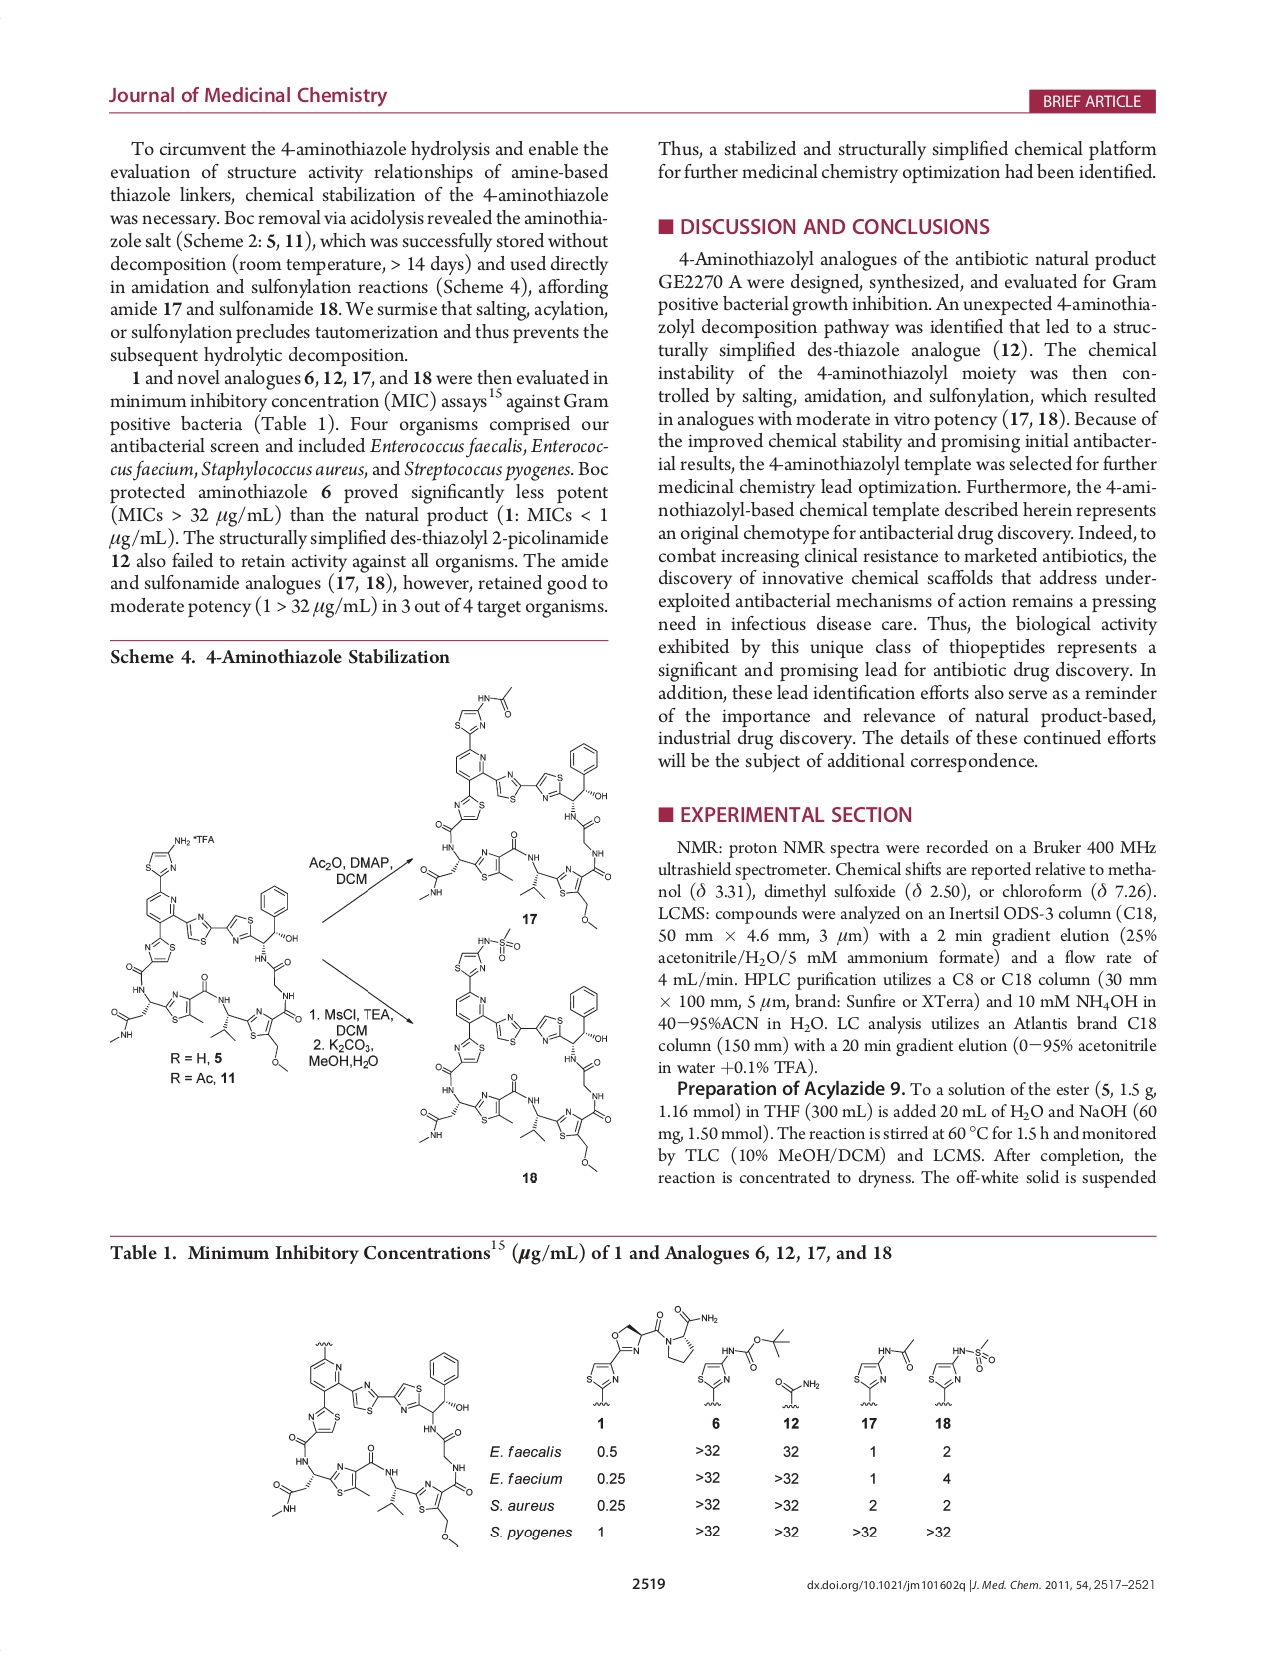exist_molecular: (416, 685, 613, 934), (418, 926, 613, 1173), (106, 831, 305, 1073), (270, 1339, 477, 1549), (585, 1305, 721, 1408), (696, 1327, 790, 1408), (926, 1337, 996, 1410), (848, 1337, 918, 1410), (769, 1371, 822, 1414)
